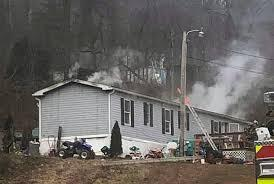smoke: (187, 35, 271, 115), (89, 55, 138, 91), (52, 58, 78, 84)
